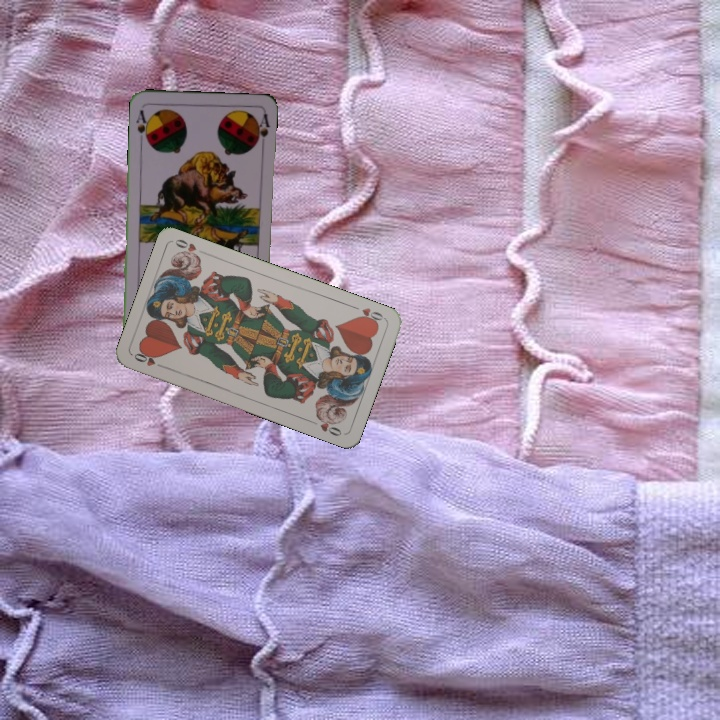HO: (348, 302, 387, 327), (130, 347, 168, 371)
SA: (132, 106, 152, 145)
